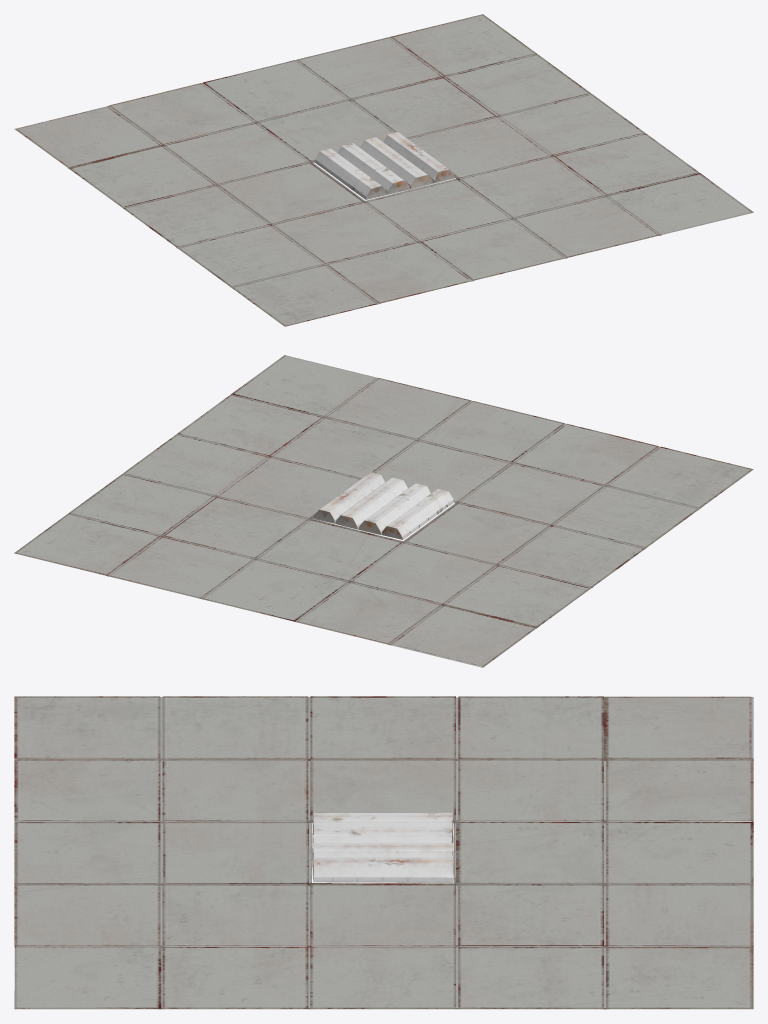
The model's file is SM_Ceiling_Grid01.fbx.
3 renders of one model, top to bottom at view 1: azimuth 30°, elevation 25°; view 2: azimuth 150°, elevation 25°; view 3: azimuth 270°, elevation 25°, orthographic. The views are drawn at different scales.
Parts seen in each view (by area): view 1: SM_Ceiling_Grid01_LOD0; view 2: SM_Ceiling_Grid01_LOD0; view 3: SM_Ceiling_Grid01_LOD0.
Part boxes in pixels (x1,y1,x2,y2): SM_Ceiling_Grid01_LOD0: [14, 14, 753, 326]; SM_Ceiling_Grid01_LOD0: [14, 355, 753, 667]; SM_Ceiling_Grid01_LOD0: [14, 696, 753, 1009].
Bounding box in the file's own units: 300 × 300 × 6.86.
